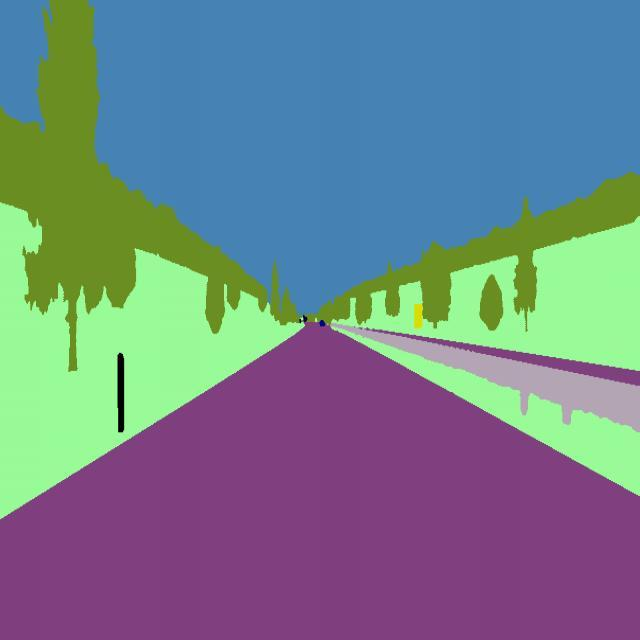safe: (318, 318, 328, 330)
